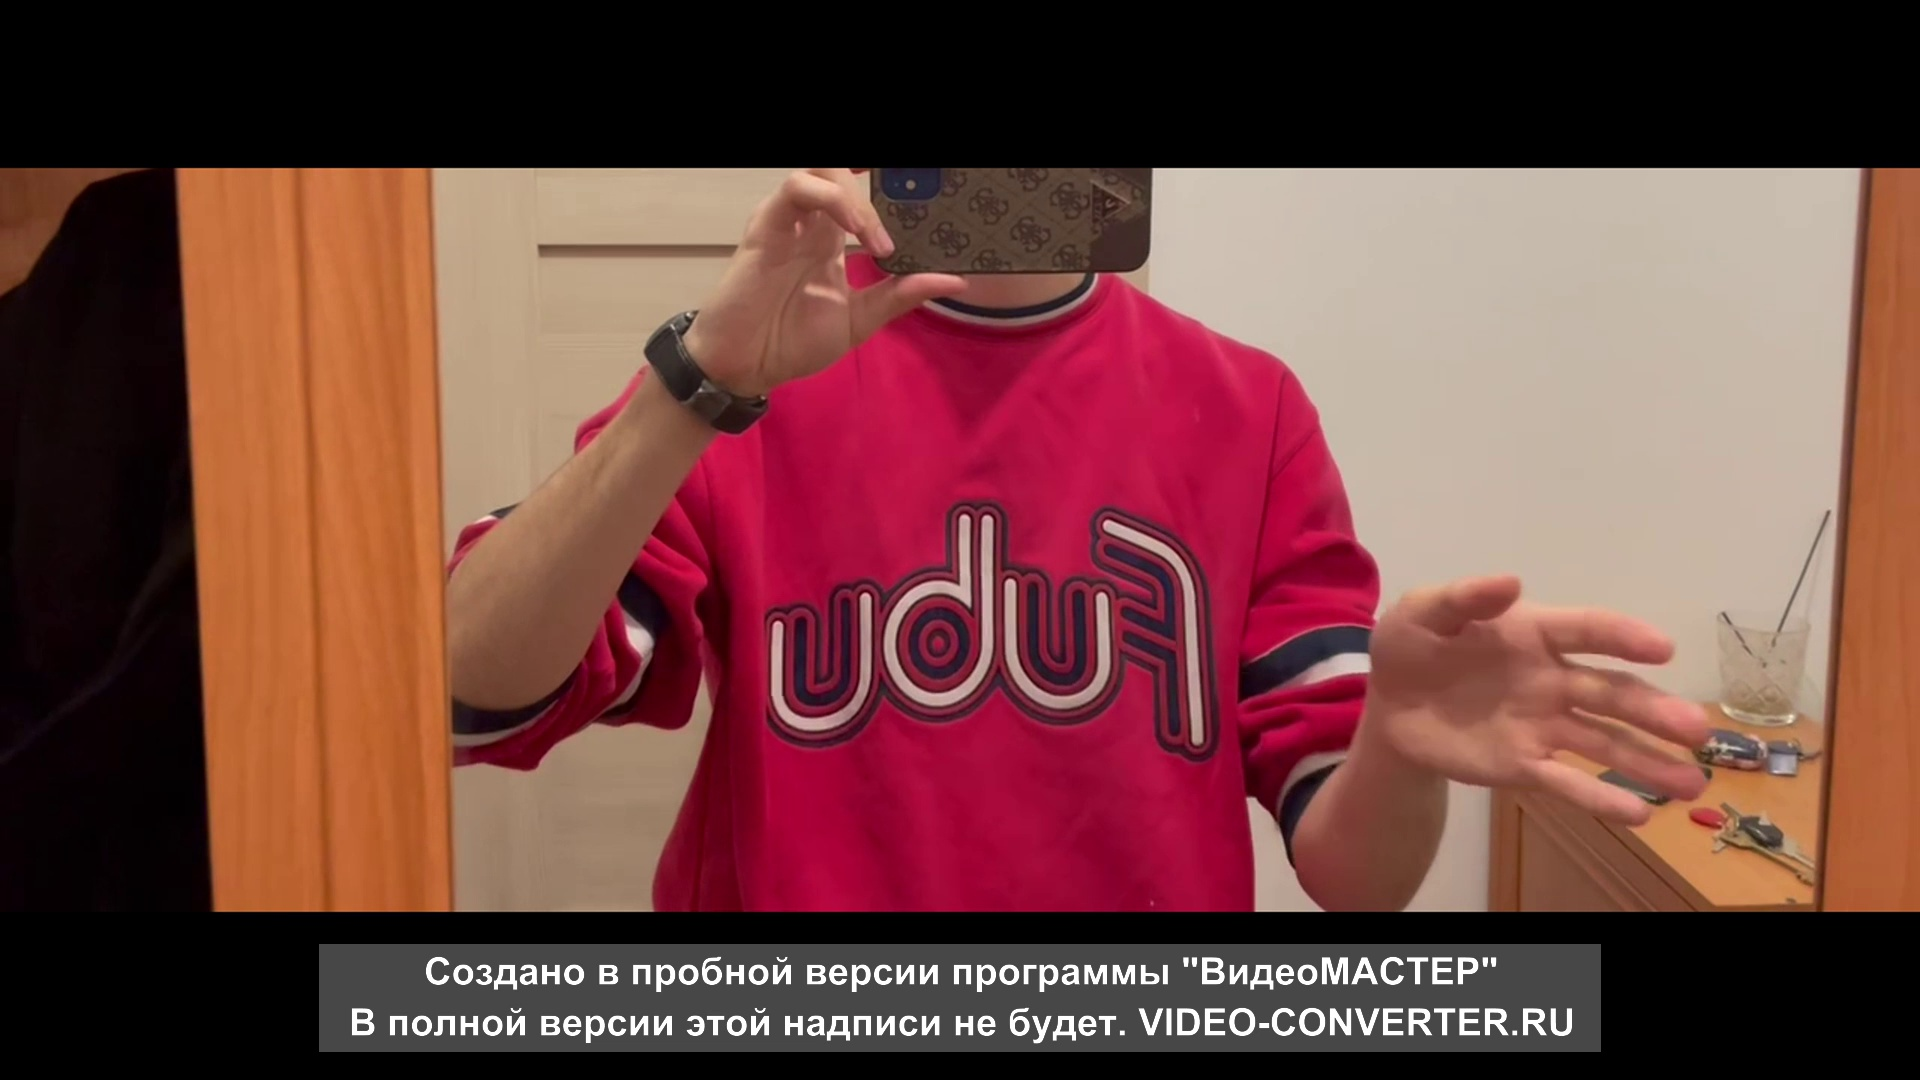Ладонь: (1366, 574, 1708, 823)
